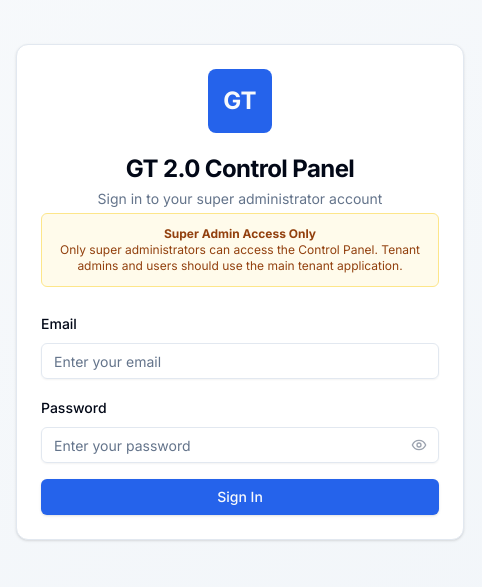
LoginPage › validates required fields
This screenshot has width=482, height=587.
Click the button "Sign In".
click(240, 497)  # box [41,479,439,515]
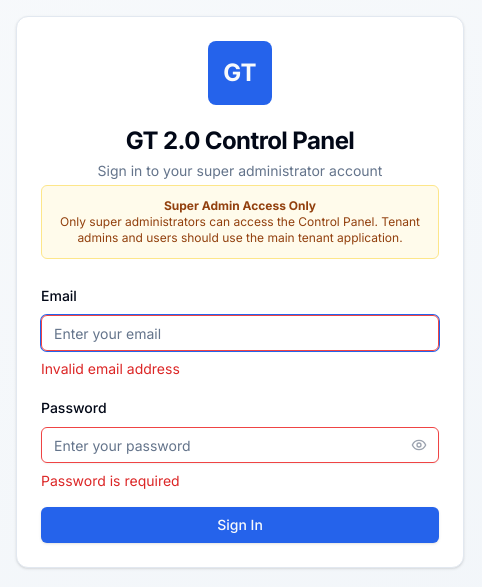
Check: the text "Invalid email address" is shown, box [41,360,180,377]
